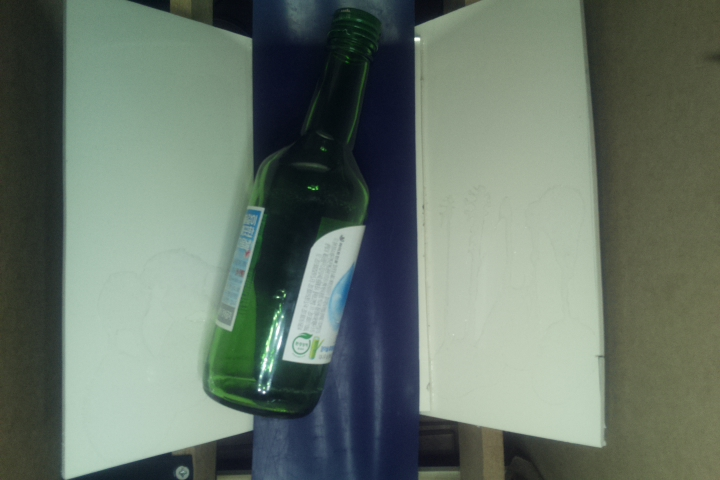soju: (201, 5, 387, 418)
